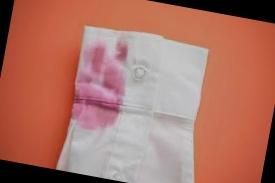wine: (70, 33, 136, 136)
